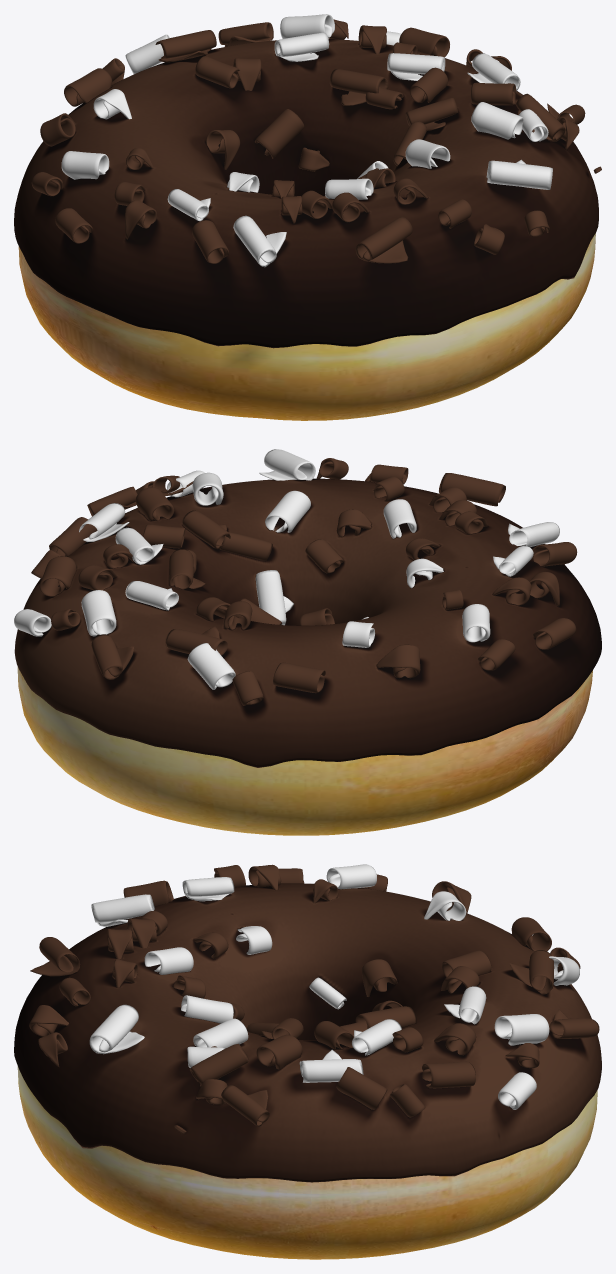
The model's file is dark two in one curls.glb.
3 renders of one model, top to bottom at view 1: azimuth 30°, elevation 25°; view 2: azimuth 150°, elevation 25°; view 3: azimuth 270°, elevation 25°, orthographic. The views are drawn at different scales.
Visible parts, largest first — view 1: coffee.001, dark, two in one curls, Torus; view 2: dark, coffee.001, two in one curls, Torus; view 3: dark, coffee.001, two in one curls, Torus.
Boxes of the visible parts, x1,y1,x2,y2 form: coffee.001: (14,39,598,347); dark: (15,39,598,348); two in one curls: (31,14,601,267); Torus: (18,233,595,420); dark: (15,479,585,767); coffee.001: (14,478,601,767); two in one curls: (14,449,577,705); Torus: (17,667,592,835); dark: (48,883,601,1182); coffee.001: (14,883,601,1182); two in one curls: (29,864,599,1133); Torus: (17,1066,597,1259).
Bounding box in the file's own units: 0.1989 × 0.0804 × 0.1972.
5 materials, 2 textured.
